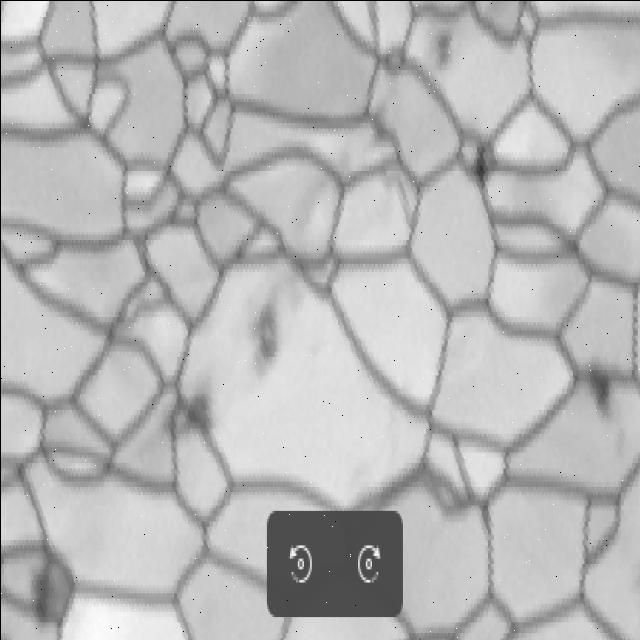good_void: (27, 550, 68, 619), (252, 293, 286, 376), (581, 360, 616, 417), (179, 382, 213, 437), (473, 132, 498, 186), (432, 27, 456, 71), (612, 423, 628, 458)
